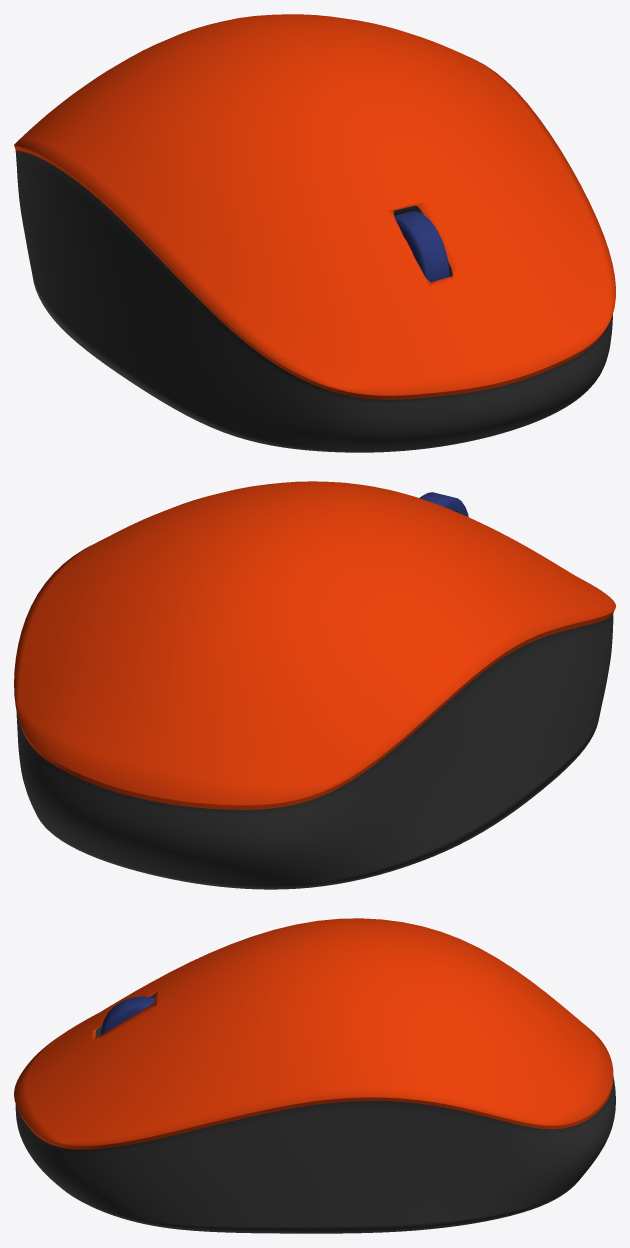
Rendered from mou1.gltf.
The picture shows the model from 3 angles, top to bottom: view 1: azimuth 30°, elevation 25°; view 2: azimuth 150°, elevation 25°; view 3: azimuth 270°, elevation 25°; orthographic projection. The views are drawn at different scales.
Parts seen in each view (by area): view 1: Cube; view 2: Cube; view 3: Cube.
Boxes of the visible parts, <box> form: Cube: <box>14,14,615,452</box>; Cube: <box>14,481,615,889</box>; Cube: <box>14,918,615,1233</box>.
Size of the model in its own units: 1.8 by 1.05 by 2.72.
